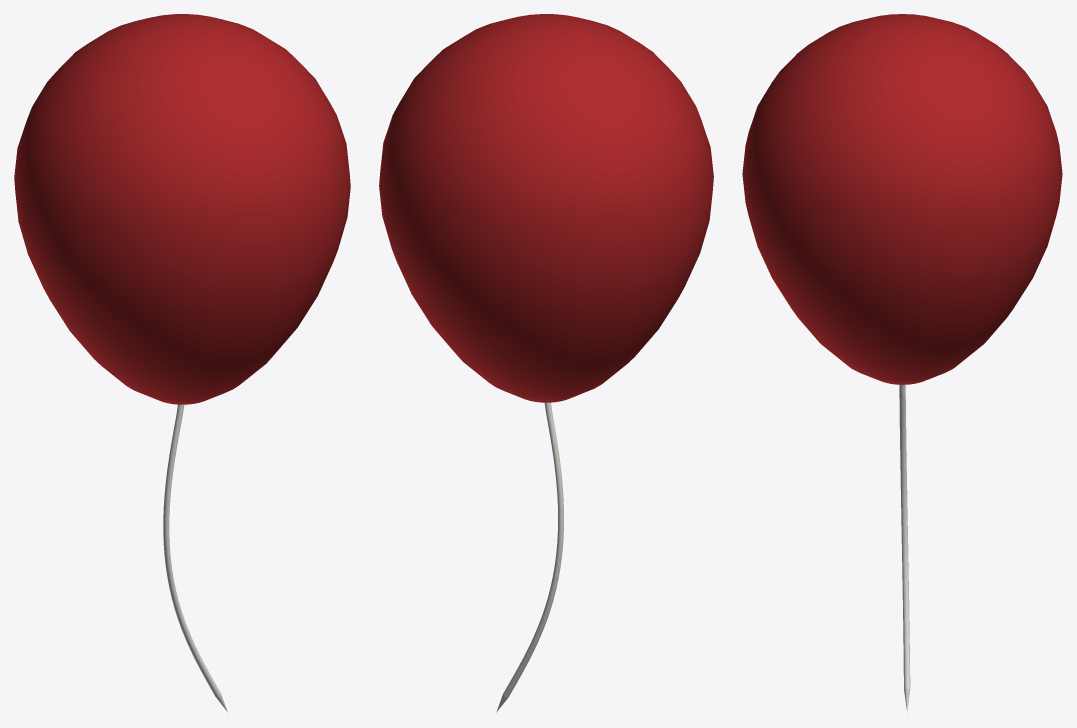
Rendered from BloonRed.fbx.
3 views of the same model, side by side, from view 1: azimuth 30°, elevation 25°; view 2: azimuth 150°, elevation 25°; view 3: azimuth 270°, elevation 25° (orthographic). The views are drawn at different scales.
Visible parts, largest first — view 1: bloon; view 2: bloon; view 3: bloon.
Part boxes in pixels (x1=…): bloon: x1=14, y1=14, x2=350, y2=712; bloon: x1=379, y1=14, x2=713, y2=712; bloon: x1=742, y1=14, x2=1062, y2=713.
Bounding box in the file's own units: 430 × 981 × 430.
